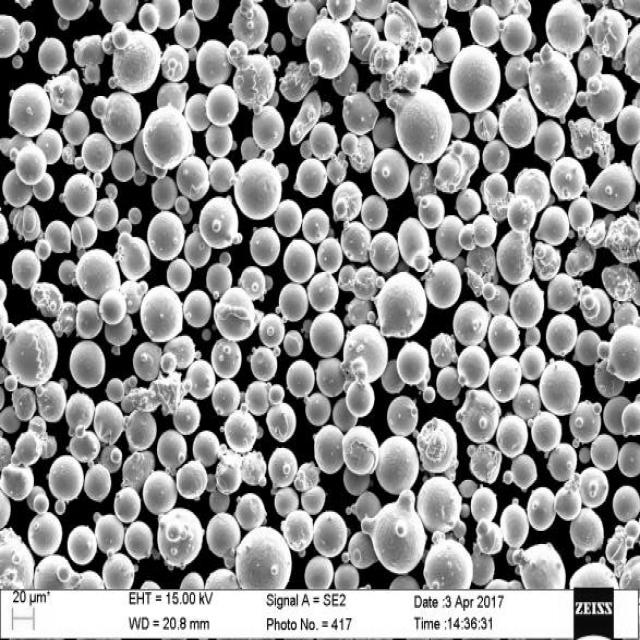cells: (366, 493, 429, 578), (391, 90, 452, 166), (102, 24, 168, 94), (448, 40, 502, 120), (370, 270, 430, 342), (4, 318, 61, 392), (526, 45, 580, 123), (233, 525, 296, 589), (228, 41, 280, 113), (154, 504, 208, 573), (142, 104, 196, 172), (135, 280, 188, 346), (232, 155, 282, 222), (208, 284, 260, 347), (305, 17, 353, 83), (342, 322, 390, 387), (373, 434, 420, 500), (423, 532, 476, 590), (417, 474, 464, 539), (537, 356, 585, 419), (585, 155, 638, 212), (29, 280, 78, 338), (197, 194, 244, 254), (7, 80, 51, 140), (507, 544, 567, 588), (545, 0, 591, 56), (338, 265, 380, 326), (567, 116, 616, 168), (420, 414, 458, 480), (369, 143, 410, 204), (74, 247, 120, 301), (584, 69, 625, 129), (434, 142, 480, 195), (456, 390, 500, 445), (216, 446, 266, 494), (385, 2, 430, 55), (499, 88, 538, 149), (96, 92, 140, 146), (146, 210, 188, 266), (33, 558, 103, 591), (587, 8, 633, 58), (192, 34, 233, 90), (605, 320, 640, 385), (507, 276, 547, 331), (0, 524, 33, 590), (423, 257, 463, 309), (69, 339, 108, 392), (339, 420, 378, 472), (312, 509, 351, 561), (550, 152, 590, 202), (497, 228, 534, 282), (8, 142, 49, 190), (220, 404, 261, 451), (231, 2, 268, 54), (204, 512, 244, 560), (394, 338, 432, 388), (568, 507, 606, 557), (489, 353, 524, 407), (497, 497, 532, 551), (249, 101, 286, 152), (309, 313, 348, 361), (543, 309, 579, 361), (48, 451, 83, 504), (534, 201, 571, 251), (289, 90, 322, 146), (284, 236, 318, 289), (117, 230, 151, 283), (280, 506, 316, 556), (466, 239, 498, 295), (76, 131, 114, 178), (454, 298, 488, 349), (608, 211, 640, 265), (62, 172, 97, 221), (203, 82, 240, 128), (154, 426, 188, 476), (532, 114, 566, 164), (143, 468, 178, 516), (314, 426, 349, 474), (44, 69, 82, 113), (569, 399, 603, 448), (513, 167, 550, 212), (279, 58, 316, 103), (485, 310, 521, 356), (384, 395, 420, 441), (8, 245, 44, 291), (93, 398, 126, 448), (494, 411, 528, 459), (605, 518, 639, 566), (399, 219, 429, 273), (246, 223, 282, 267), (267, 444, 298, 495), (176, 156, 211, 201), (277, 279, 309, 328), (8, 430, 46, 471), (183, 356, 216, 403), (208, 336, 244, 379), (526, 485, 558, 533), (64, 390, 96, 438), (601, 265, 640, 304), (457, 344, 490, 390), (483, 170, 512, 222), (294, 156, 329, 199), (344, 93, 379, 136), (29, 513, 63, 557), (587, 431, 620, 476), (572, 468, 609, 508), (74, 34, 103, 85), (546, 273, 582, 314), (36, 34, 68, 80), (330, 180, 364, 223), (125, 406, 157, 451), (344, 528, 379, 569), (122, 450, 155, 493), (570, 561, 622, 588), (205, 252, 233, 302), (471, 4, 502, 49), (81, 461, 115, 502), (92, 513, 125, 555), (367, 230, 399, 273), (110, 482, 142, 525), (8, 208, 47, 243), (309, 272, 341, 314), (580, 284, 612, 326), (67, 523, 98, 566), (177, 458, 208, 501), (531, 410, 562, 453), (500, 13, 531, 56), (284, 358, 316, 399), (469, 441, 501, 482), (310, 118, 341, 160), (415, 187, 445, 230), (3, 166, 33, 209), (432, 20, 460, 66), (556, 473, 584, 519), (271, 195, 304, 234), (266, 402, 298, 442), (474, 518, 506, 558), (37, 379, 66, 423), (190, 427, 221, 468), (73, 298, 104, 339), (122, 519, 153, 560), (300, 205, 332, 244), (235, 493, 267, 532), (546, 443, 578, 482), (102, 555, 137, 590), (340, 220, 369, 262), (289, 0, 318, 42), (1, 463, 33, 501), (359, 194, 390, 233), (316, 356, 344, 399), (466, 543, 494, 586), (603, 396, 633, 436), (118, 275, 148, 315), (96, 289, 127, 327), (594, 361, 625, 399), (304, 389, 332, 431), (437, 213, 462, 260), (44, 218, 74, 257), (183, 230, 213, 269), (512, 382, 542, 421), (506, 192, 535, 232), (62, 108, 91, 148), (34, 126, 63, 166), (173, 398, 202, 438), (350, 22, 379, 62), (407, 0, 447, 29), (239, 267, 273, 301), (481, 136, 512, 173), (468, 485, 498, 523), (346, 380, 375, 419), (532, 242, 561, 281), (132, 342, 160, 382), (164, 336, 196, 371), (248, 345, 280, 380), (612, 483, 640, 523), (407, 163, 438, 199), (345, 492, 382, 522), (174, 8, 201, 49), (184, 289, 212, 328), (212, 378, 240, 417), (378, 357, 406, 396), (368, 43, 401, 76), (69, 429, 101, 463), (103, 314, 134, 349), (161, 45, 191, 81), (349, 135, 375, 176), (185, 92, 212, 131), (206, 123, 235, 159), (574, 328, 600, 368), (331, 396, 358, 434), (372, 116, 401, 151), (453, 186, 481, 222), (616, 103, 640, 145), (94, 196, 119, 236), (11, 385, 38, 422), (156, 81, 188, 112), (68, 218, 99, 250), (566, 243, 598, 274), (258, 312, 288, 345), (305, 556, 333, 591), (472, 215, 498, 252), (100, 2, 140, 26), (209, 158, 235, 194), (430, 332, 456, 368), (504, 54, 530, 90), (150, 0, 182, 29), (608, 301, 640, 330), (167, 257, 192, 294), (315, 236, 342, 270), (519, 346, 546, 380), (616, 439, 640, 477), (110, 148, 136, 183), (94, 447, 125, 476), (152, 177, 178, 211), (512, 453, 538, 487), (569, 198, 594, 233), (344, 462, 371, 494), (204, 567, 241, 590), (436, 368, 460, 403), (485, 282, 511, 314), (1, 14, 20, 57), (246, 379, 270, 413), (474, 110, 498, 143), (52, 0, 91, 20), (295, 463, 321, 492), (274, 488, 299, 518), (301, 486, 326, 516), (620, 402, 640, 438), (333, 563, 360, 589), (334, 67, 358, 96), (326, 0, 356, 23), (449, 110, 472, 138), (139, 5, 161, 34), (192, 0, 221, 22), (328, 155, 350, 183), (242, 136, 262, 165), (282, 330, 304, 356), (34, 172, 54, 200), (209, 488, 229, 516), (24, 416, 49, 438), (26, 484, 46, 510), (58, 260, 76, 288), (587, 222, 608, 246), (457, 226, 476, 252), (523, 322, 542, 348), (106, 379, 125, 404), (458, 478, 479, 500), (179, 572, 205, 589), (159, 350, 177, 374), (19, 19, 36, 42), (36, 240, 52, 262), (174, 194, 188, 219), (368, 83, 386, 102), (271, 31, 287, 52), (598, 338, 612, 362), (118, 214, 133, 236), (34, 494, 49, 516), (342, 134, 357, 156), (114, 29, 128, 51), (297, 140, 314, 158), (127, 206, 141, 227), (276, 161, 289, 183), (268, 386, 283, 405), (133, 168, 147, 187), (104, 181, 118, 200), (482, 282, 495, 301), (579, 445, 592, 463), (181, 207, 193, 226), (321, 101, 335, 117), (11, 55, 25, 70), (57, 15, 70, 30), (54, 499, 67, 513), (126, 376, 140, 389), (200, 327, 212, 342), (459, 503, 470, 519), (502, 470, 513, 485), (422, 387, 434, 400)
